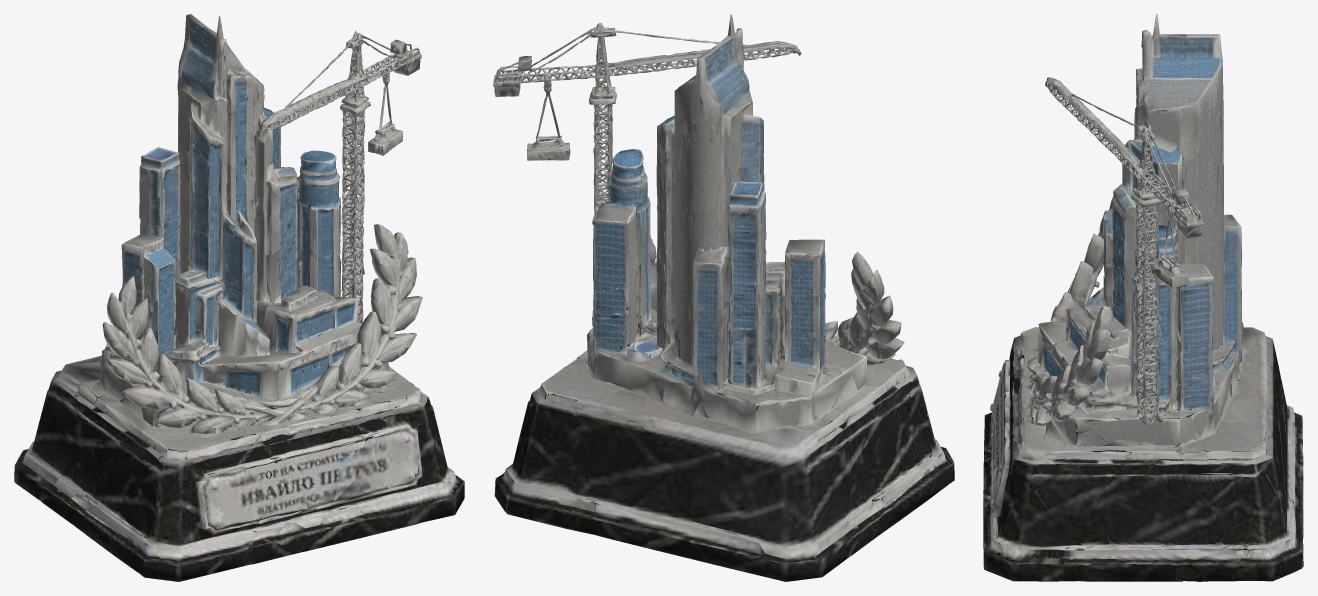
Rendered from award-ivaylo.glb.
The picture shows the model from 3 angles, left to right: view 1: azimuth 30°, elevation 25°; view 2: azimuth 150°, elevation 25°; view 3: azimuth 270°, elevation 25°; orthographic projection. The views are drawn at different scales.
Parts seen in each view (by area): view 1: Mesh_0; view 2: Mesh_0; view 3: Mesh_0.
Part boxes in pixels (box(x1,y1,x2,y2)): Mesh_0: box(14, 14, 464, 581); Mesh_0: box(493, 14, 954, 581); Mesh_0: box(983, 14, 1303, 581).
Size of the model in its own units: 1.53 by 1.9 by 1.15.
Materials: 1 (1 with a texture image).
